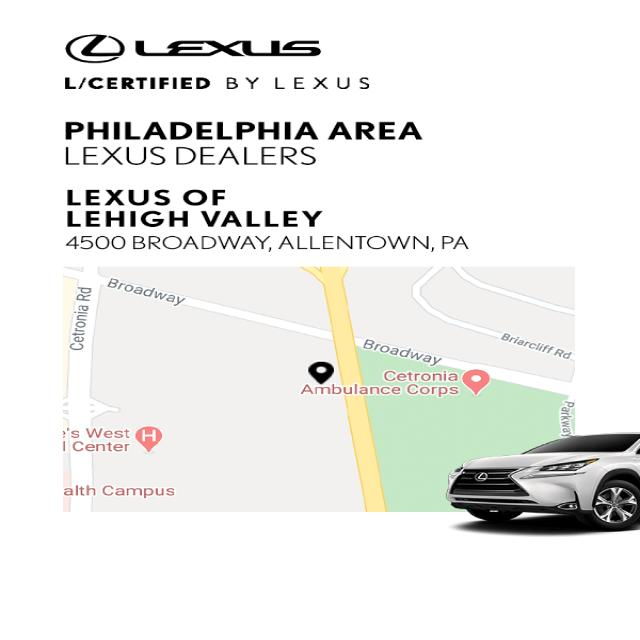Animation Frames: (410, 265, 576, 382)
Background Image: (2, 1, 637, 636)
Map or Location Image: (61, 266, 577, 513)
Seal or Badge: (445, 432, 638, 530)
Text Elements: (62, 187, 470, 251), (62, 118, 423, 166), (64, 187, 323, 228), (63, 119, 422, 141), (64, 233, 469, 251), (64, 34, 322, 62), (62, 74, 371, 91), (133, 38, 321, 57), (298, 382, 460, 397), (106, 276, 186, 306), (362, 338, 442, 366), (62, 75, 210, 90), (499, 332, 573, 359), (65, 426, 131, 453), (68, 285, 92, 351), (62, 484, 175, 498), (382, 369, 460, 382)
